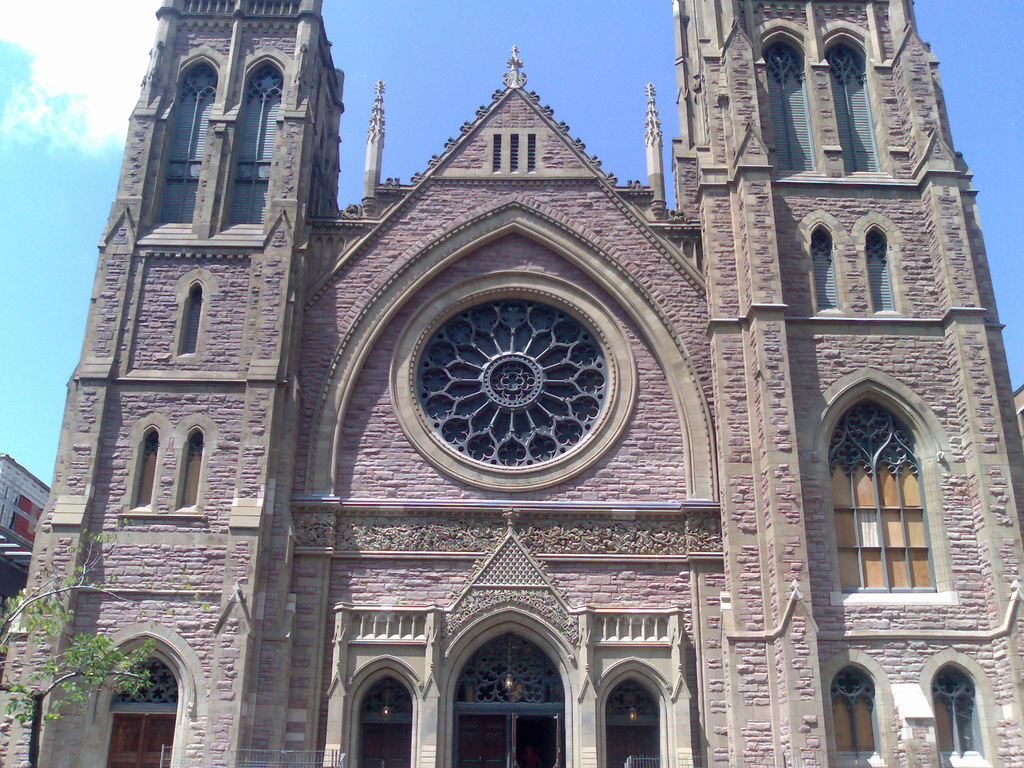Tree: (0, 514, 216, 766)
